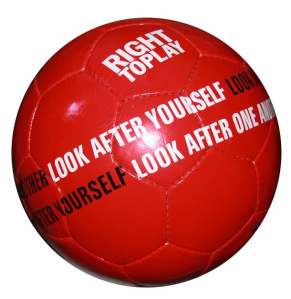red ball: (9, 16, 284, 289)
